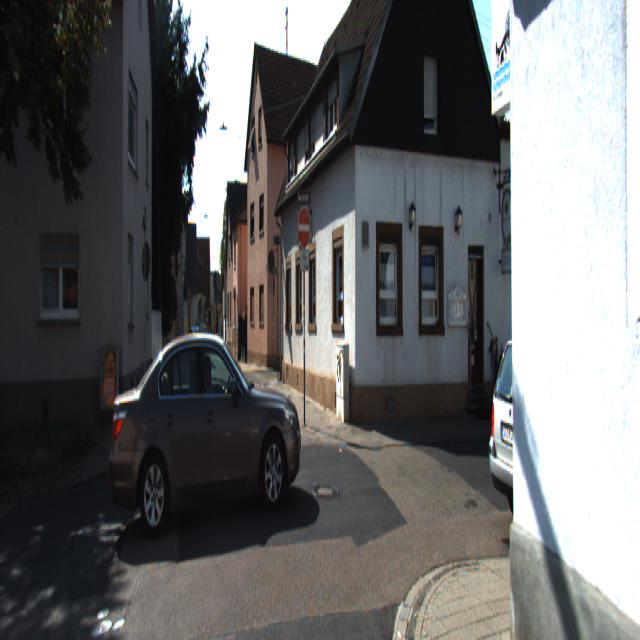Car: (111, 325, 302, 540), (486, 322, 640, 536)
